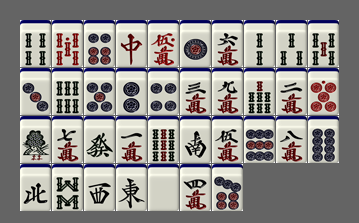0m: (148, 20, 179, 67)
0p: (308, 68, 339, 115)
0s: (52, 20, 83, 67)
1m: (116, 116, 147, 163)
1p: (180, 20, 211, 67)
1s: (20, 116, 51, 163)
1z: (116, 164, 147, 211)
2m: (276, 68, 307, 115)
2p: (116, 68, 147, 115)
2s: (244, 20, 275, 67)
2z: (180, 116, 211, 163)
3m: (180, 68, 211, 115)
3p: (20, 68, 51, 115)
3s: (276, 20, 307, 67)
3z: (84, 164, 115, 211)
4m: (180, 164, 211, 211)
4p: (148, 68, 179, 115)
4s: (20, 20, 51, 67)
4z: (20, 164, 51, 211)
5m: (212, 116, 243, 163)
5p: (84, 68, 115, 115)
5s: (308, 20, 339, 67)
5z: (148, 164, 179, 211)
6m: (212, 20, 243, 67)
6p: (84, 20, 115, 67)
6s: (52, 68, 83, 115)
6z: (84, 116, 115, 163)
7m: (52, 116, 83, 163)
7p: (212, 164, 243, 211)
7s: (244, 68, 275, 115)
7z: (116, 20, 147, 67)
8m: (276, 116, 307, 163)
8p: (308, 116, 339, 163)
8s: (52, 164, 83, 211)
9m: (212, 68, 243, 115)
9p: (244, 116, 275, 163)
9s: (148, 116, 179, 163)
